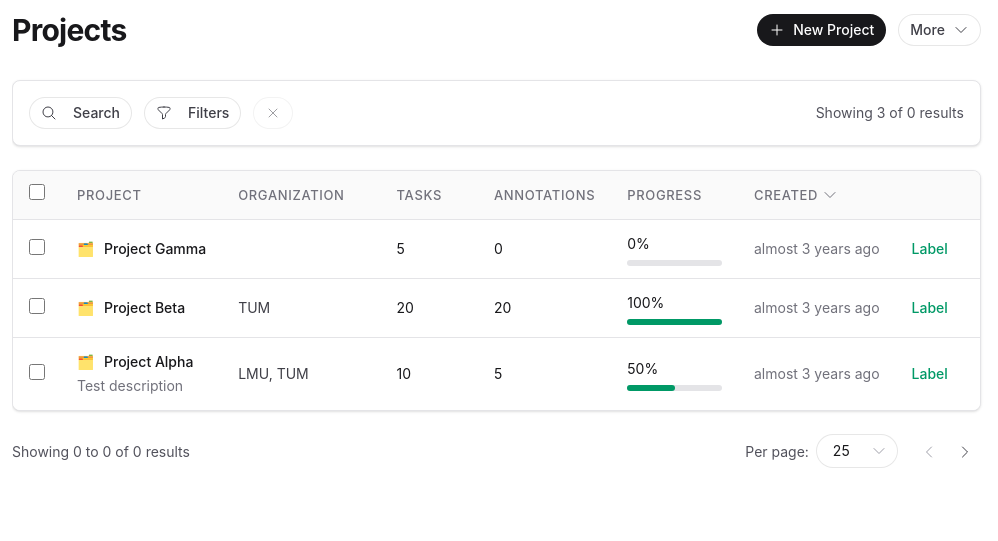
Scenario: ProjectListTable › Row Selection › should select individual project
Click the checkbox with test id "projects-table-checkbox-1" at (37, 372), box [29,364,45,380]
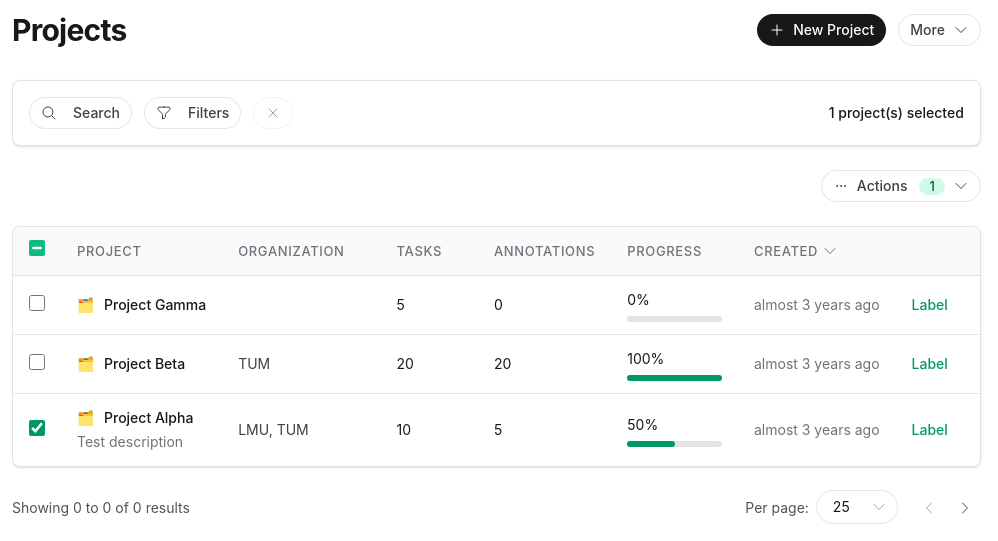
Check: the text with test id "projects-selection-count" reads "1 project(s) selected", box [829,104,964,121]
